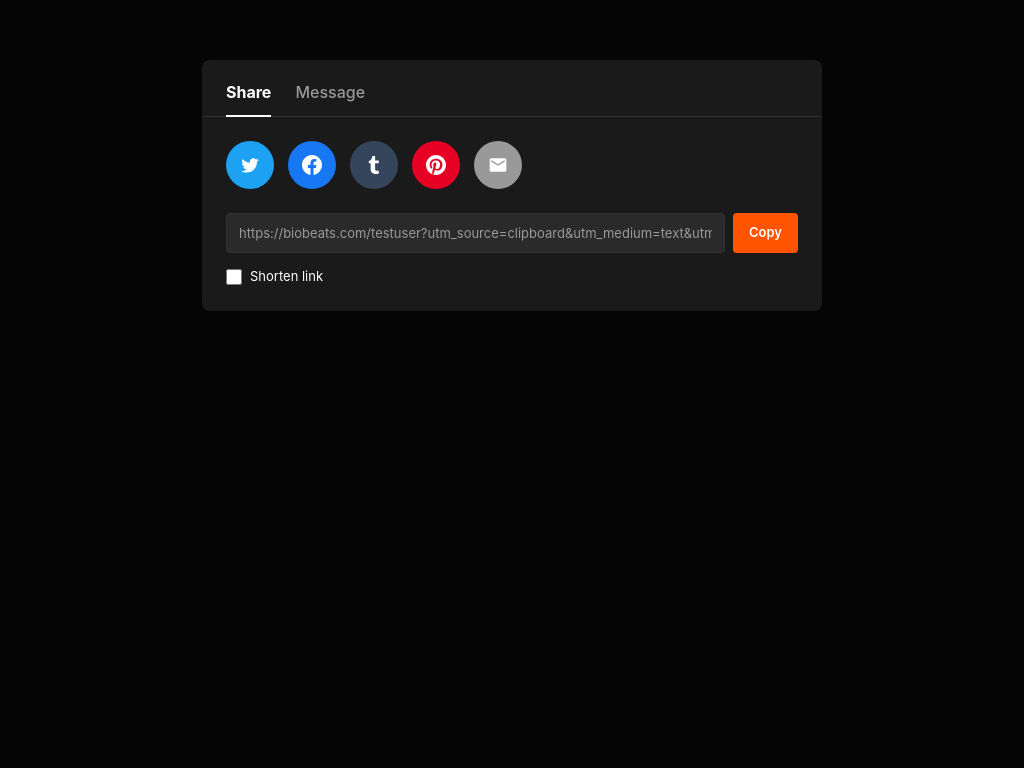
it: Share Modal › copies to clipboard on copy click
The width and height of the screenshot is (1024, 768).
Step 1. Click the button with test id "share-modal-copy-button" → [766, 233], box [733,213,798,253]
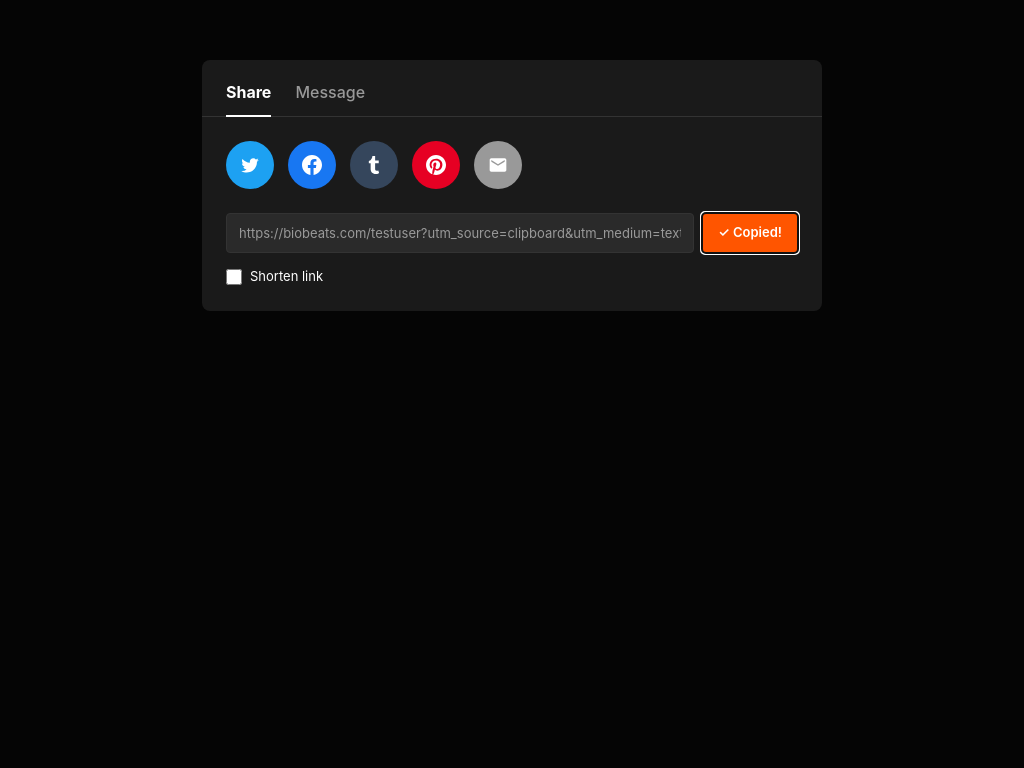
Expected: the button with test id "share-modal-copy-button" shows "Copied!", [702,213,798,253]
